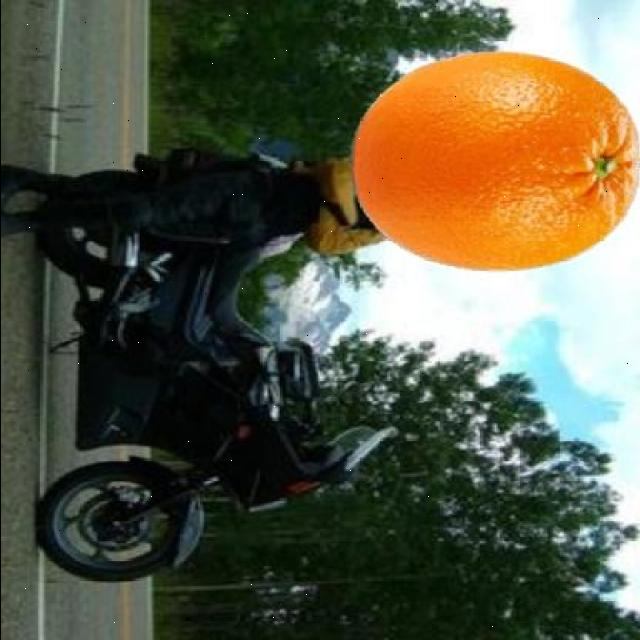Orange: (351, 50, 640, 272)
